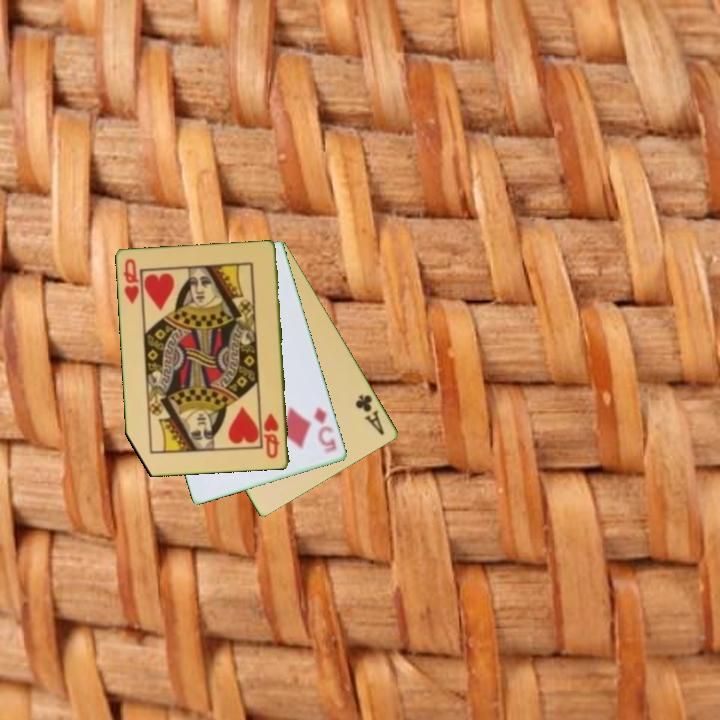5d: (310, 404, 339, 457)
Ac: (352, 391, 388, 438)
Qh: (120, 255, 142, 307), (261, 410, 282, 462)
